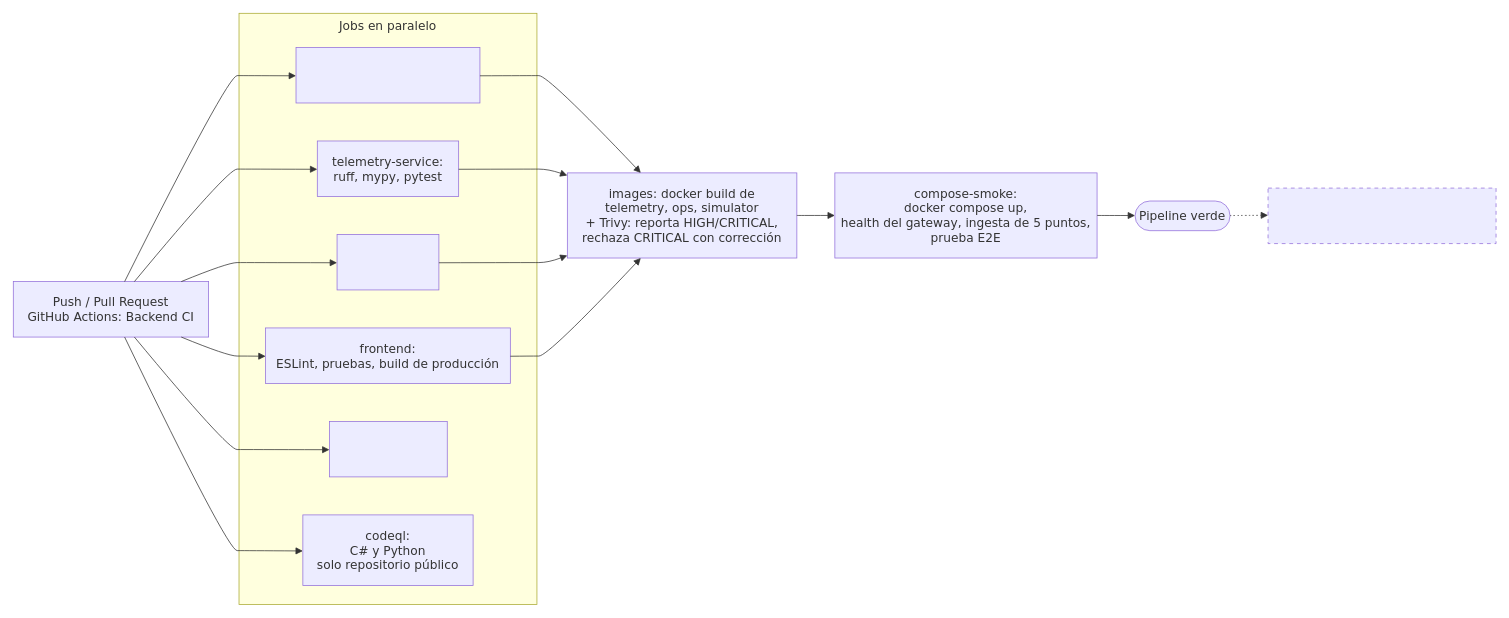
The diagram is 1509 pixels wide and 618 high, and some of its shapes have lost their labels. Each missing label, with the centre of its shape:
"CD: GHCR + despliegue por SSH diseñado, no habilitado" belongs at point (1381, 215).
"ops-service: dotnet format, build, xUnit" belongs at point (387, 75).
"secrets-scan: gitleaks" belongs at point (388, 449).
"simulator: ruff, pytest" belongs at point (387, 262).
